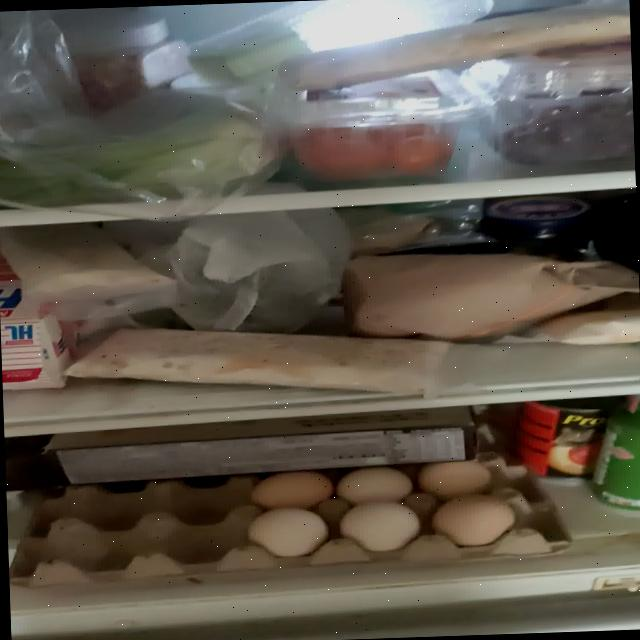egg: (6, 456, 570, 589)
leafy_greens: (0, 111, 271, 206)
tempeh: (61, 316, 452, 406), (0, 222, 178, 302)
unknown_bag: (163, 208, 353, 334)
